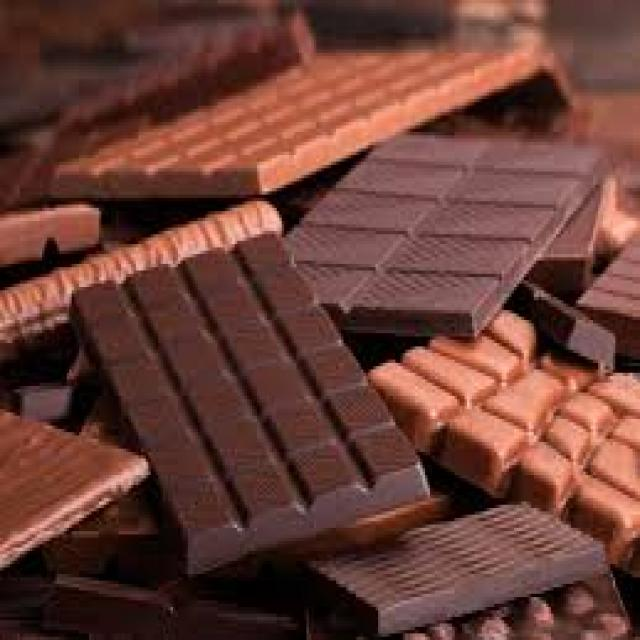chocolate: (0, 0, 640, 640), (70, 229, 428, 569), (53, 49, 539, 196), (279, 132, 600, 341), (307, 500, 607, 634), (0, 404, 151, 568)
